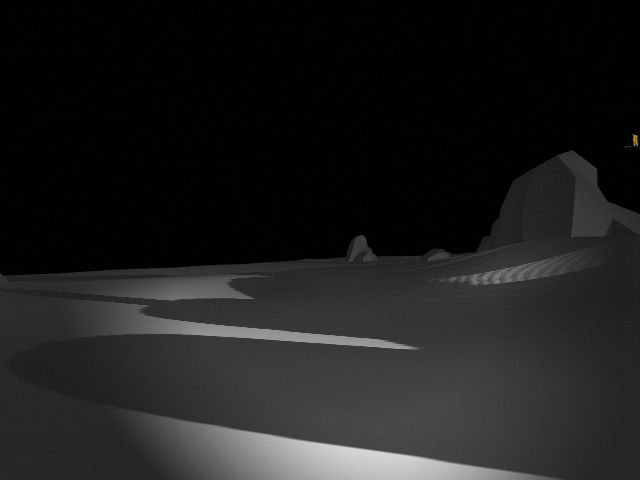cubesat: (619, 132, 640, 152)
